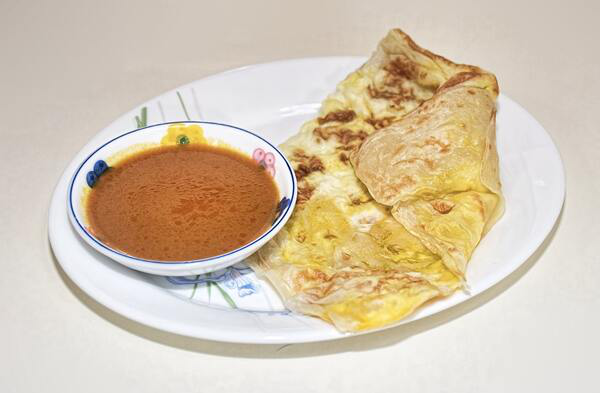Prata: (254, 48, 535, 327)
